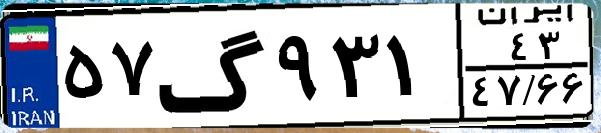1: (385, 28, 445, 110)
3: (330, 28, 385, 110), (537, 27, 568, 80)
4: (508, 27, 537, 80), (470, 70, 495, 125)
5: (57, 26, 110, 100)
6: (560, 70, 590, 125), (535, 70, 560, 125)
7: (110, 28, 156, 98), (495, 70, 520, 125)
9: (270, 28, 330, 110)
گ: (156, 12, 270, 120)
